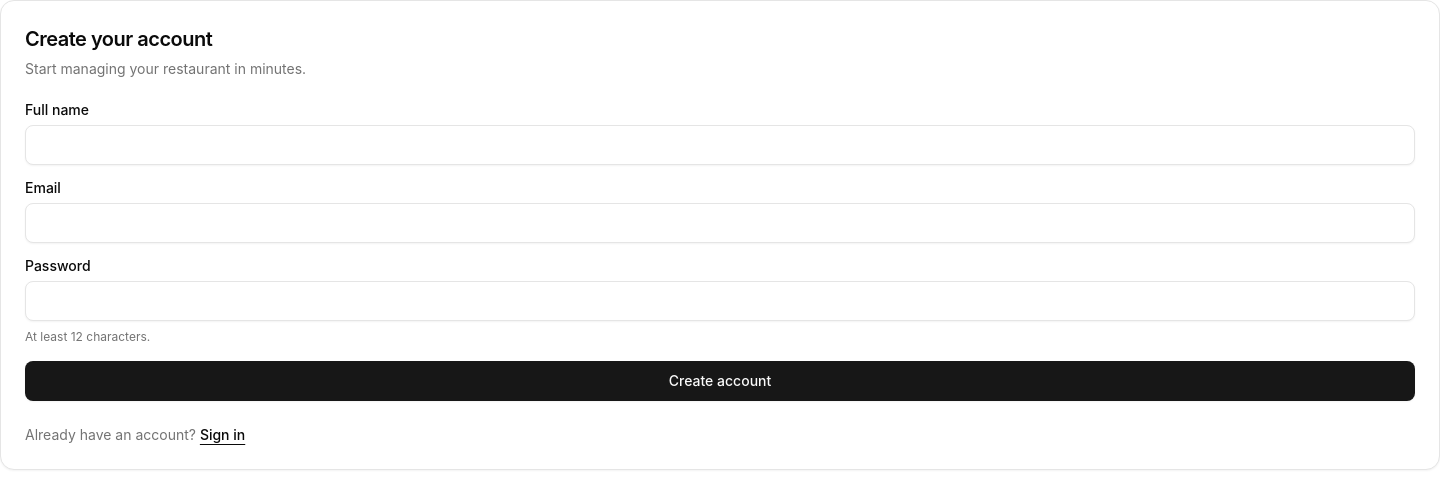
Test: SignupForm › shows the check-your-email state after the API accepts the signup
Type "Ayesha Khan" into the field labelled "Full name" at point(720, 145), box 25,125 -> 1415,165
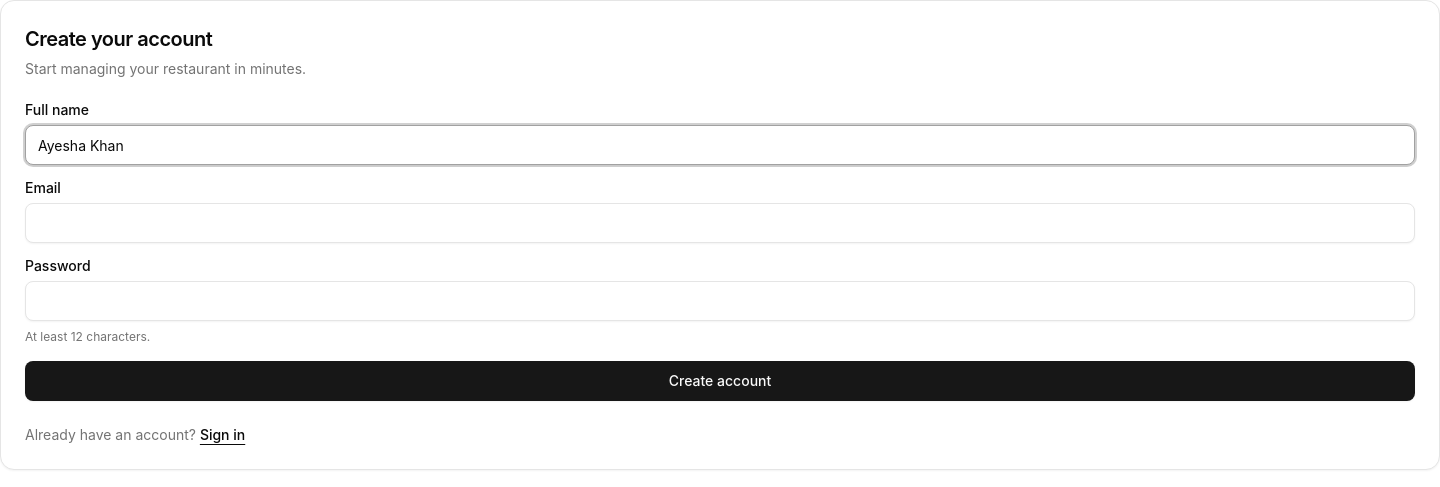
Type "ayesha@example.pk" into the field labelled "Email" at point(720, 223), box 25,203 -> 1415,243
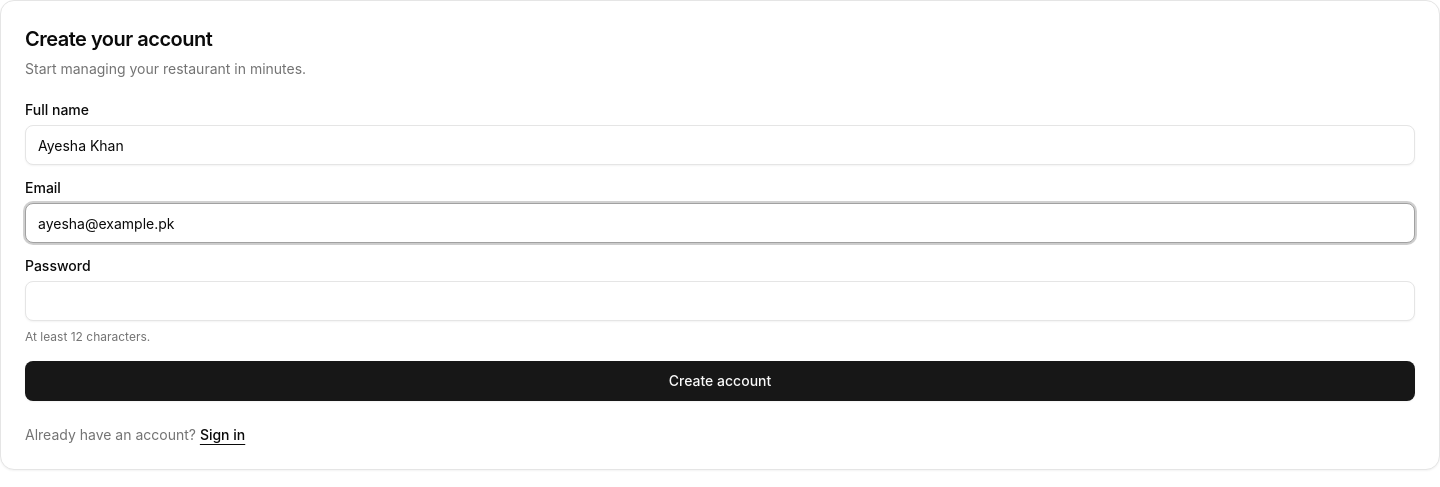
Type "a-very-long-password" into the password field labelled "Password" at point(720, 301), box 25,281 -> 1415,321
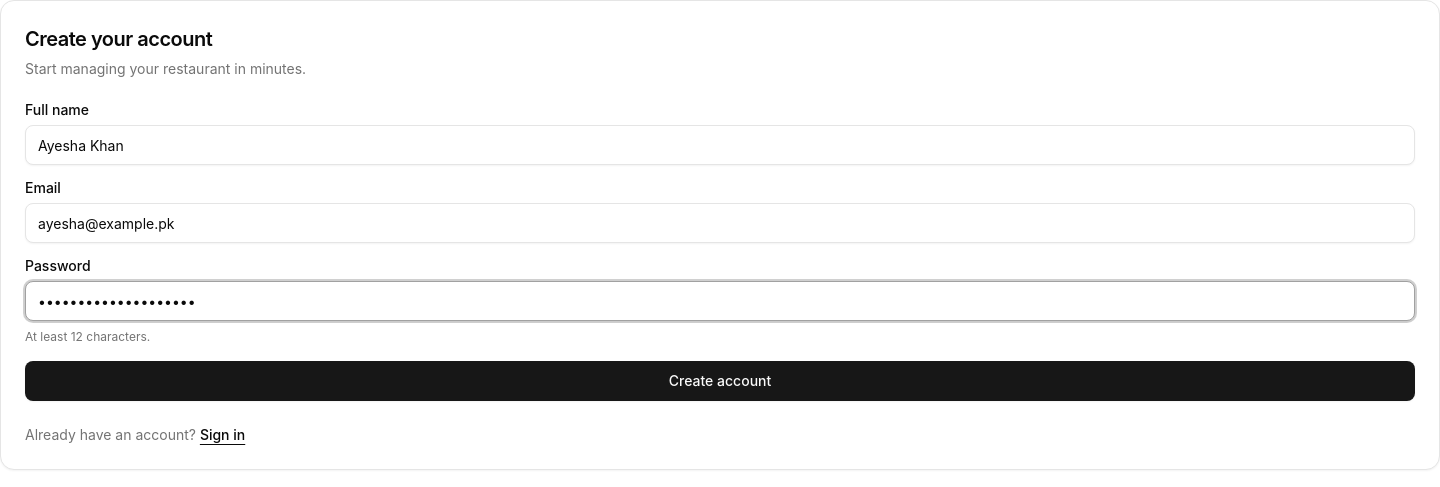
Click the button "Create account" at point(720, 381), box 25,361 -> 1415,401
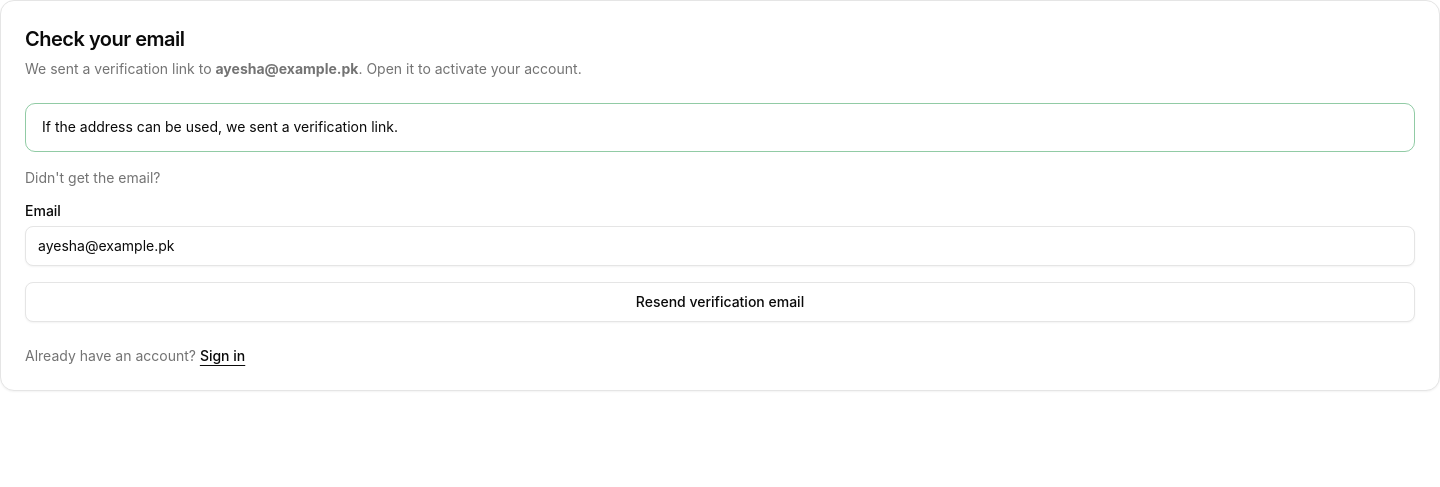
Check: the heading "Check your email" is shown, box 25,27 -> 184,51
Check: the text "ayesha@example.pk" is shown, box 216,60 -> 358,77
Check: the message shows "we sent a verification link", box 42,118 -> 398,135
